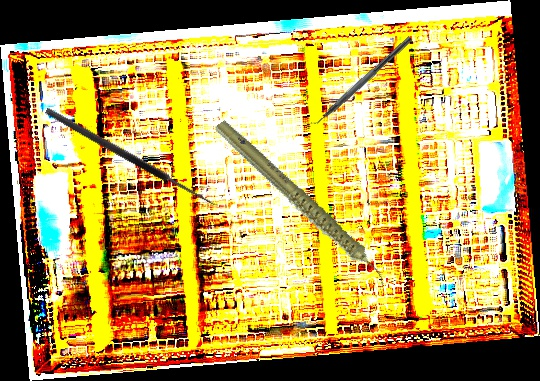Chopper: (302, 29, 413, 134)
Handpiece: (212, 93, 390, 318)
Hook Surgical: (43, 98, 225, 211)
